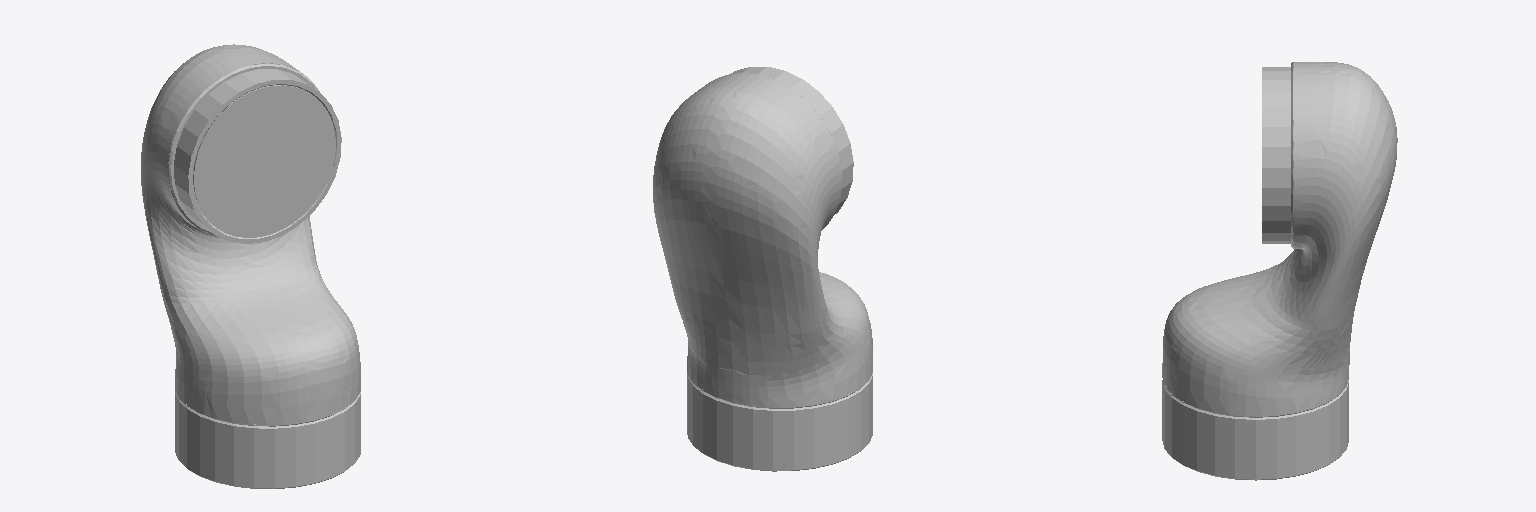
File: spherical_wrist_2_link.obj
The picture shows the model from 3 angles: view 1: azimuth 30°, elevation 25°; view 2: azimuth 150°, elevation 25°; view 3: azimuth 270°, elevation 25°; orthographic projection.
Parts seen in each view (by area): view 1: Spherical_Wrist_2_Link; view 2: Spherical_Wrist_2_Link; view 3: Spherical_Wrist_2_Link.
Boxes of the visible parts, x1,y1,x2,y2 form: Spherical_Wrist_2_Link: [141, 44, 360, 488]; Spherical_Wrist_2_Link: [653, 67, 872, 471]; Spherical_Wrist_2_Link: [1162, 62, 1397, 480].
Bounding box in the file's own units: 0.07 × 0.1535 × 0.0882.